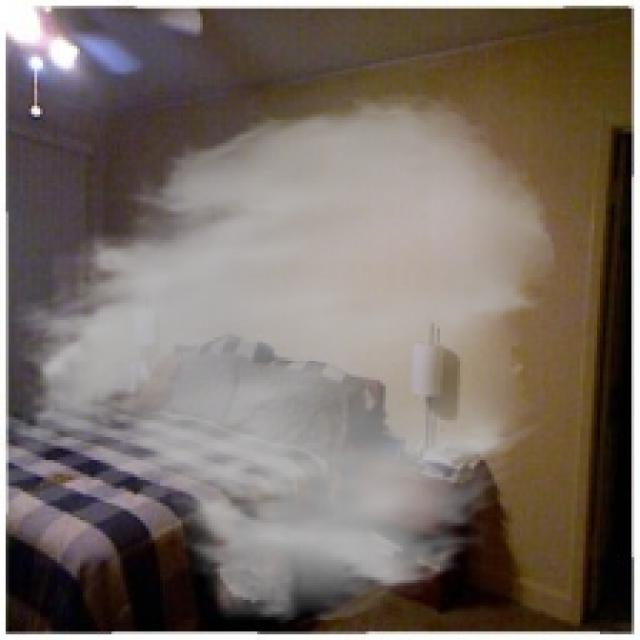smoke: (0, 89, 560, 628)
